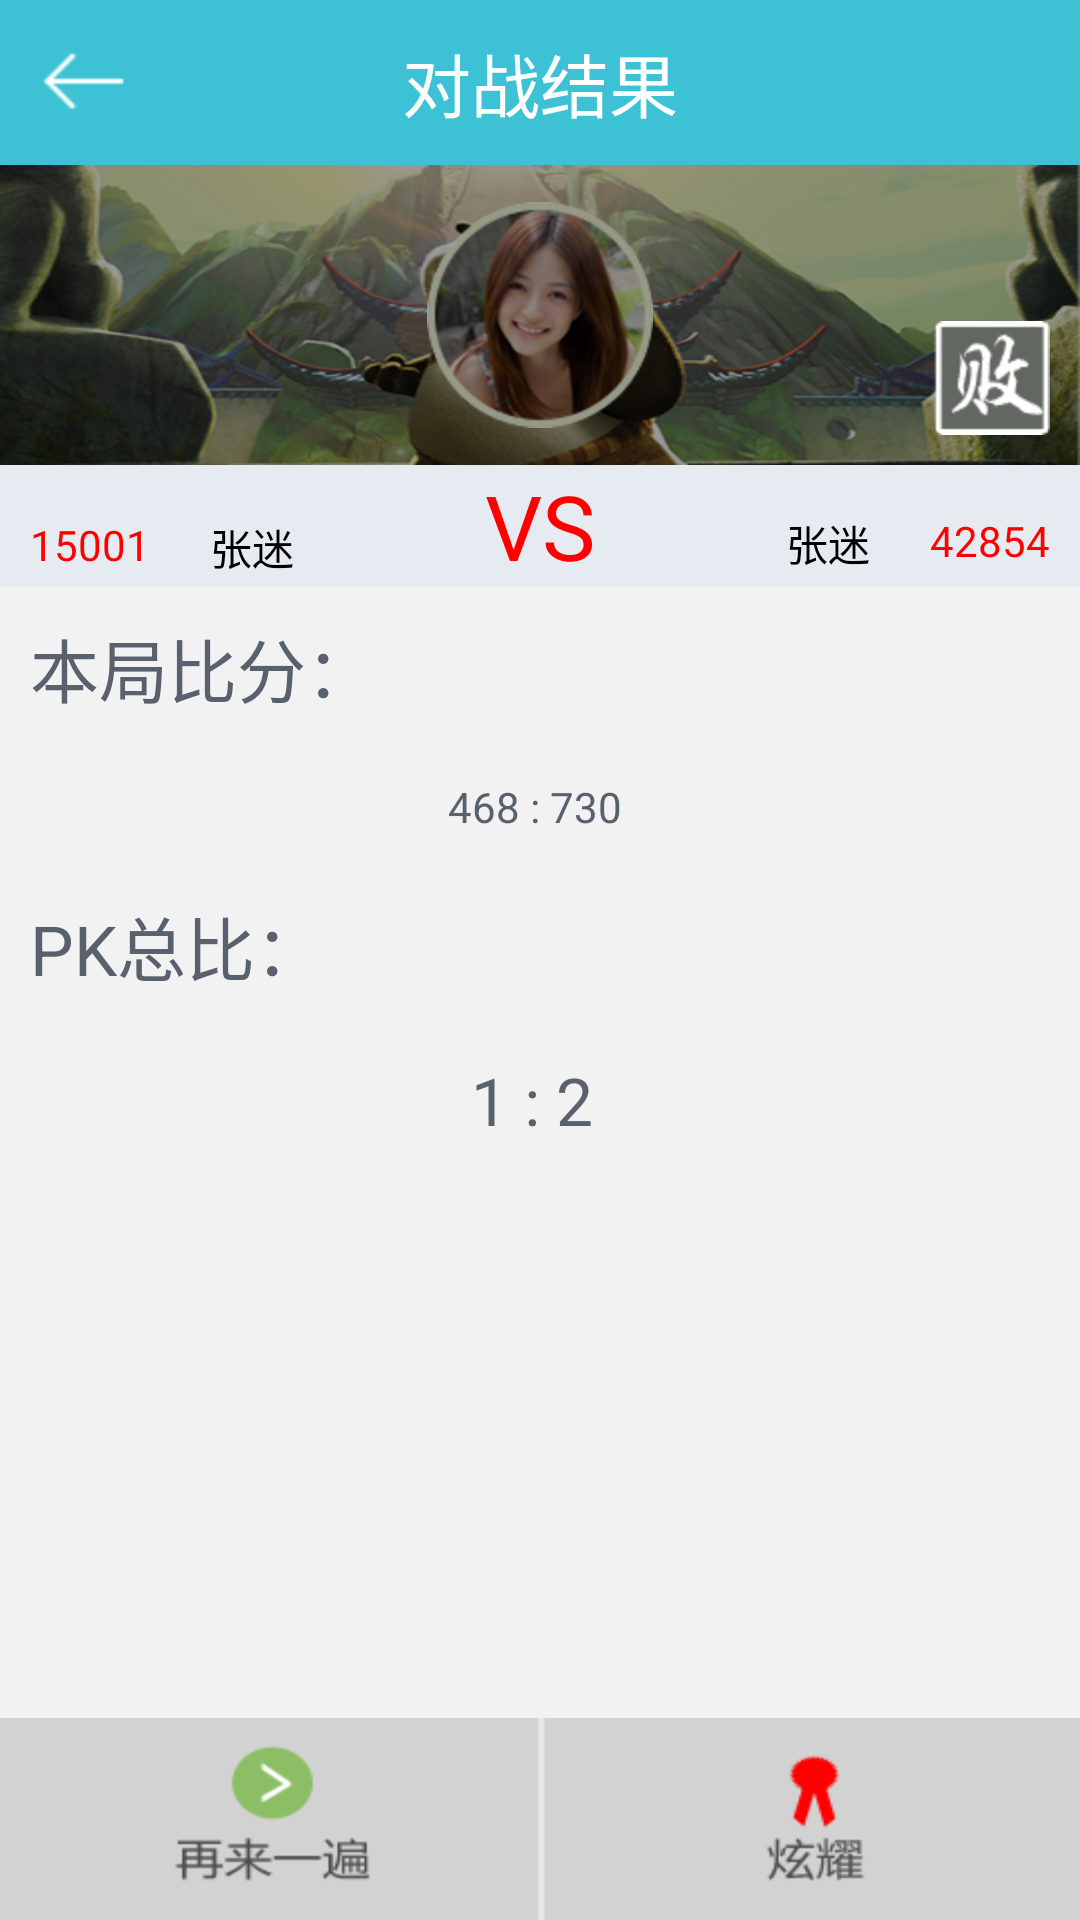

Named icons in this screenshot (1080w x 1920h) and their centers, [x,y]:
back: [84,81]
